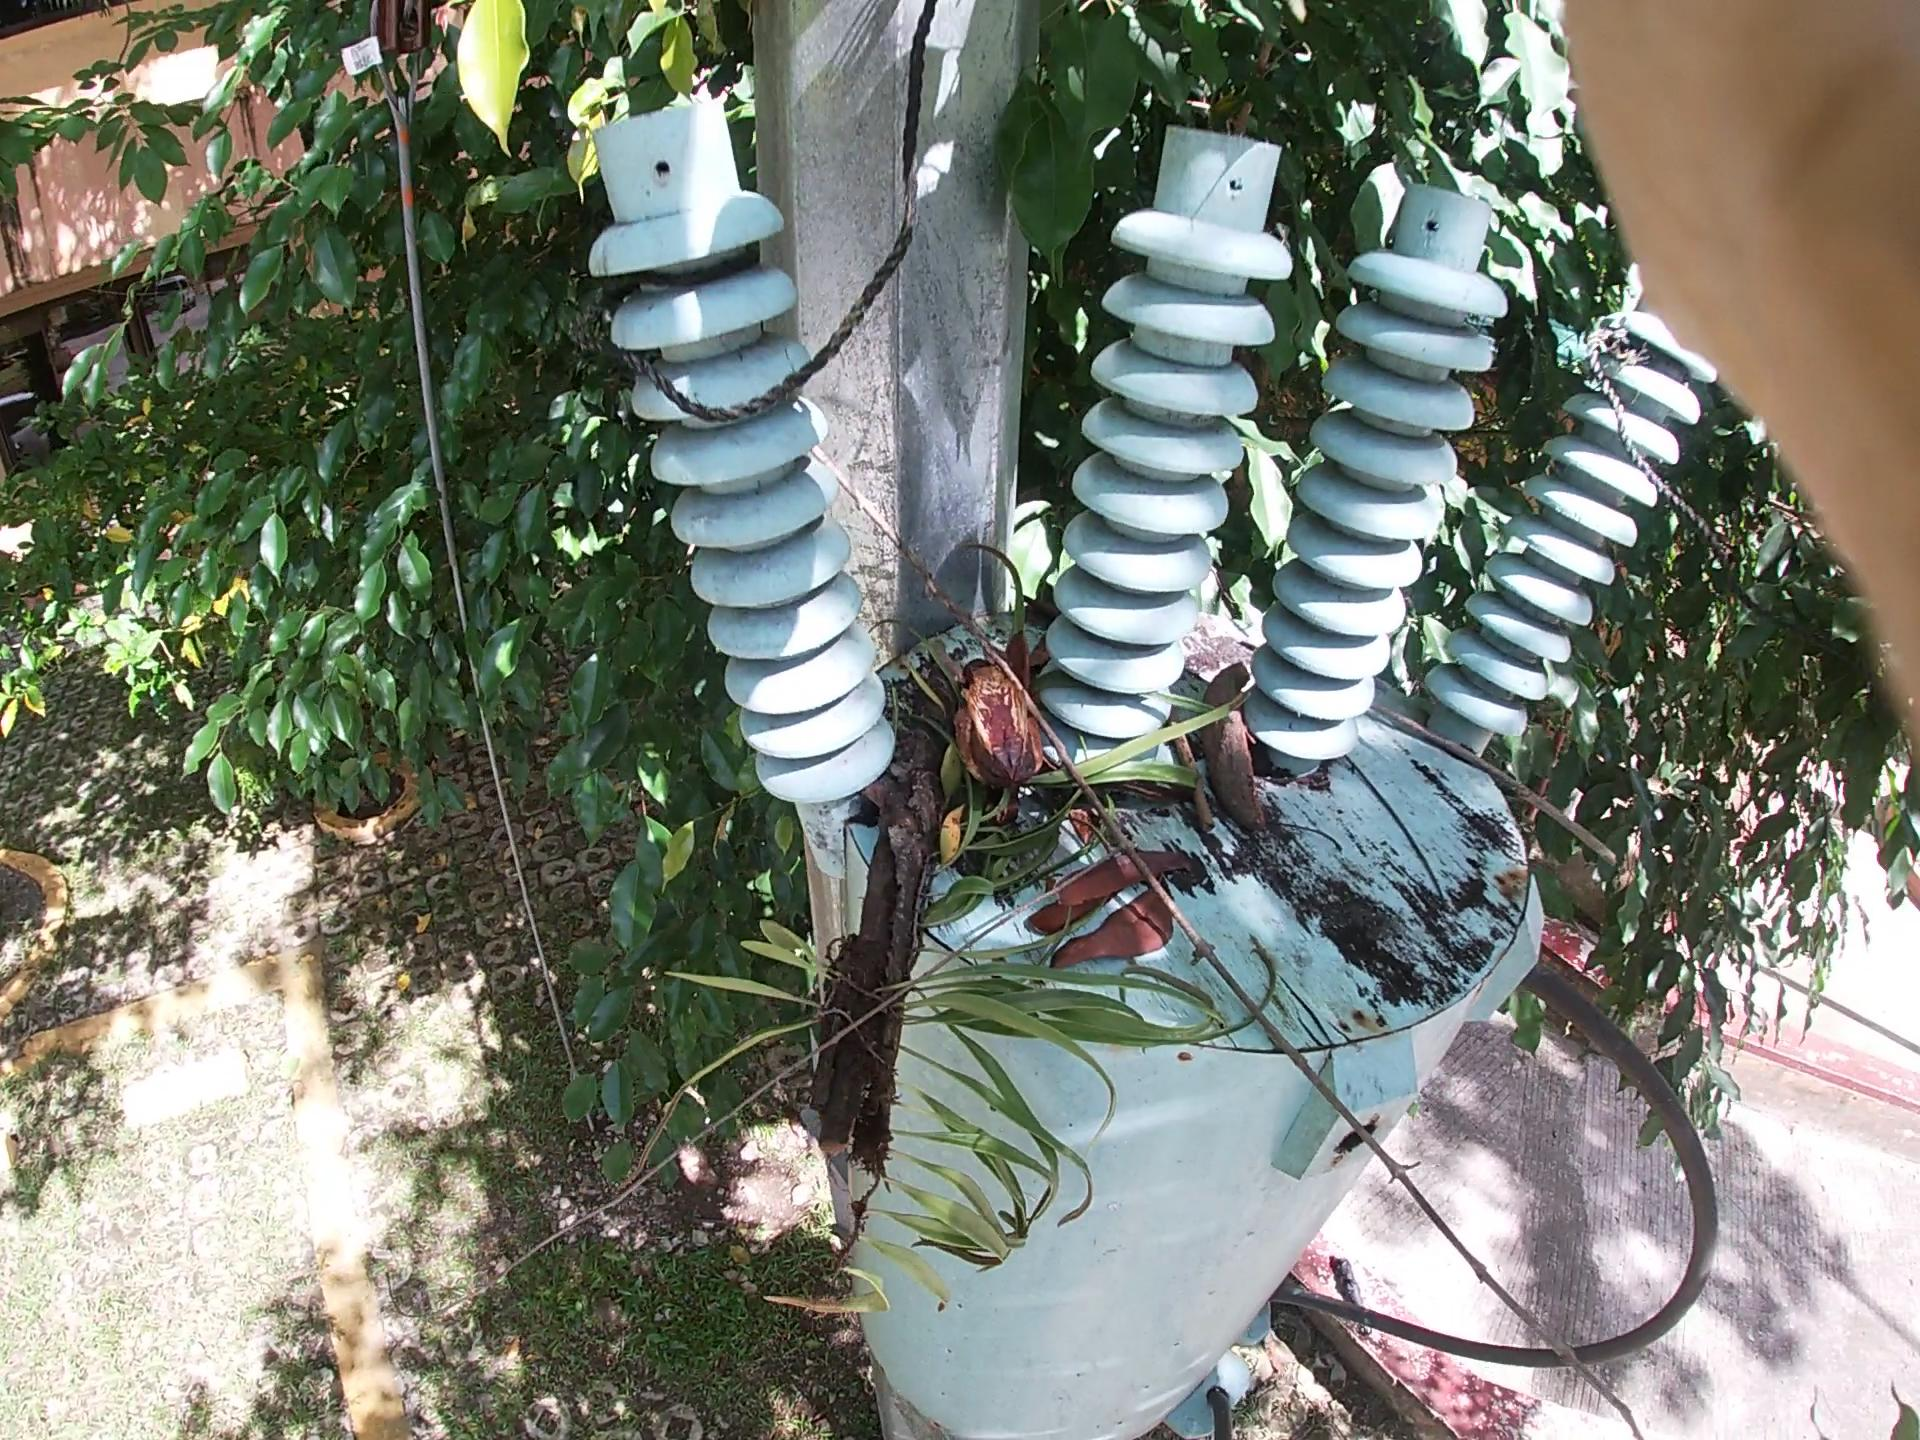branch with leaves: (751, 542, 1017, 1221)
leaf: (937, 839, 1312, 1053)
mahogany fruit: (1163, 537, 1314, 846), (925, 617, 1039, 826)
tree branch: (974, 452, 1507, 1304), (1379, 693, 1657, 926), (1161, 663, 1290, 986)
